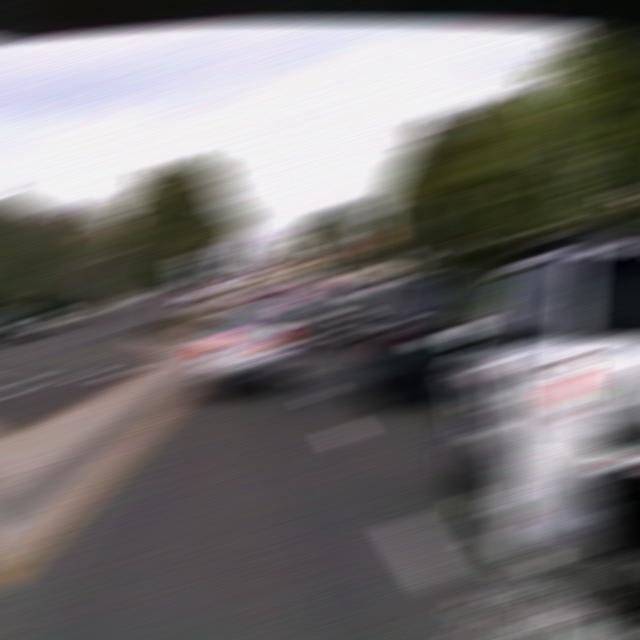speedLimit45: (176, 250, 211, 278)
